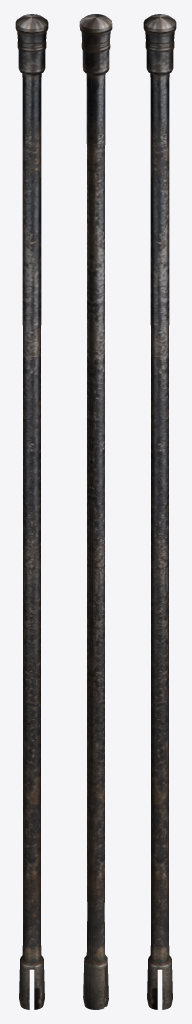
File: SM_Rammer.fbx
The picture shows the model from 3 angles, left to right: view 1: azimuth 90°, elevation 25°; view 2: azimuth 150°, elevation 25°; view 3: azimuth 270°, elevation 25°; orthographic projection.
Parts seen in each view (by area): view 1: SM_Rammer; view 2: SM_Rammer; view 3: SM_Rammer.
Part boxes in pixels (x1=…): SM_Rammer: x1=15, y1=14, x2=48, y2=1009; SM_Rammer: x1=79, y1=14, x2=112, y2=1009; SM_Rammer: x1=143, y1=14, x2=176, y2=1009.
Size of the model in its own units: 5.98 by 5.98 by 200.
1 material, 1 textured.
